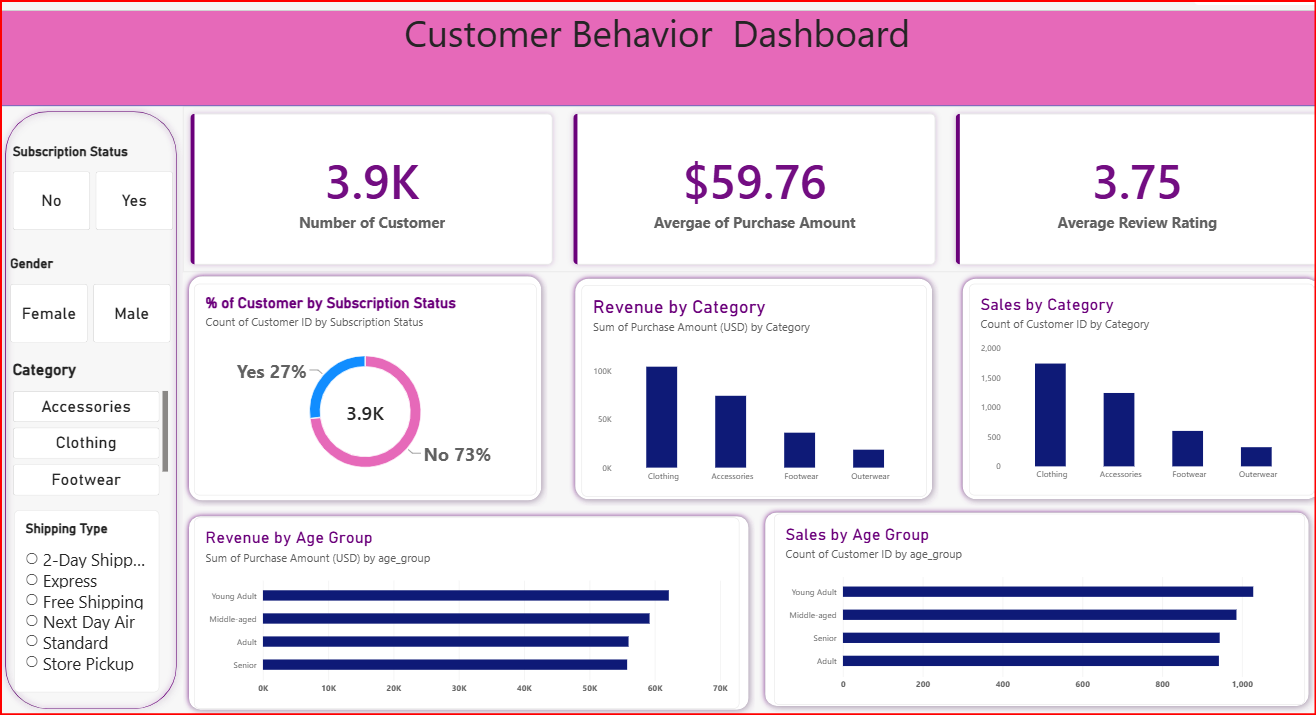

This screenshot's page, from the dashboard's own definition file:
{"tool":"powerbi","page":{"name":"Page 1","canvas":[1920,1080],"ordinal":0},"visuals":[{"type":"cardVisual","fields":{"Data":["public customer.Number of Customer","public customer.Avergae of Purchase Amount","public customer.Average Review Rating"]},"box":[266.1,198,1654.3,240.6],"z":0},{"type":"shape","box":[0,0,1920.1,197.3],"z":1000},{"type":"textbox","box":[0,54.3,1920.1,143],"z":2000},{"type":"shape","box":[266.1,434.3,528,342.8],"z":3000},{"type":"donutChart","title":"% of Customer by Subscription Status","fields":{"Category":["public customer.Subscription Status"],"Y":["CountNonNull(public customer.Customer ID)"]},"box":[283.2,453.5,496.1,306.6],"z":4000},{"type":"shape","box":[826.1,438.6,534.9,337.3],"z":5000},{"type":"shape","box":[1386,438.6,534.9,337.3],"z":6000},{"type":"clusteredColumnChart","title":"Revenue by Category ","fields":{"Category":["public customer.Category"],"Y":["Sum(public customer.Purchase Amount (USD))"]},"box":[843.1,455.6,500.3,306.6],"z":7000},{"type":"clusteredColumnChart","title":"Sales by Category","fields":{"Category":["public customer.Category"],"Y":["CountNonNull(public customer.Customer ID)"]},"box":[1405.2,453.5,500.3,306.6],"z":8000},{"type":"shape","box":[0,195.9,266.1,883.6],"z":9000},{"type":"advancedSlicerVisual","fields":{"Values":["public customer.Subscription Status"]},"box":[19.2,251.2,232.1,125.6],"z":11000},{"type":"advancedSlicerVisual","fields":{"Values":["public customer.Category"]},"box":[19.2,564.2,225.7,198],"z":12000},{"type":"listSlicer","fields":{"Values":["public customer.Shipping Type"]},"box":[21.3,781.4,210.8,264],"z":13000},{"type":"clusteredBarChart","title":"Revenue by Age Group ","fields":{"Category":["public customer.age_group"],"Y":["Sum(public customer.Purchase Amount (USD))"]},"box":[283.2,792,704.7,276.8],"z":14000},{"type":"shape","box":[266.1,781.4,828.2,298.1],"z":15000},{"type":"clusteredBarChart","title":"Revenue by Age Group ","fields":{"Category":["public customer.age_group"],"Y":["Sum(public customer.Purchase Amount (USD))"]},"box":[283.2,792,789.9,276.8],"z":16000},{"type":"shape","box":[1100.7,777.1,804.8,298.1],"z":17000},{"type":"clusteredBarChart","title":"Sales by Age Group ","fields":{"Category":["public customer.age_group"],"Y":["Count(public customer.Customer ID)"]},"box":[1122,787.8,768.6,276.8],"z":18000},{"type":"advancedSlicerVisual","fields":{"Values":["public customer.Gender"]},"box":[17,415.2,232.1,125.6],"z":18001}]}

Visuals, with their boxes on the page's 1920x1080 design canvas (x1, y1, x2, y2). These are canvas units, not pixel positions in the 1316x715 screenshot, which may show the page scaled, cropped or inside an application window:
cardVisual - public customer.Number of Customer x public customer.Avergae of Purchase Amount: bbox=(266, 198, 1920, 439)
shape: bbox=(0, 0, 1920, 197)
textbox: bbox=(0, 54, 1920, 197)
shape: bbox=(266, 434, 794, 777)
"% of Customer by Subscription Status" donutChart: bbox=(283, 454, 779, 760)
shape: bbox=(826, 439, 1361, 776)
shape: bbox=(1386, 439, 1921, 776)
"Revenue by Category " clusteredColumnChart: bbox=(843, 456, 1343, 762)
"Sales by Category" clusteredColumnChart: bbox=(1405, 454, 1906, 760)
shape: bbox=(0, 196, 266, 1080)
advancedSlicerVisual - public customer.Subscription Status: bbox=(19, 251, 251, 377)
advancedSlicerVisual - public customer.Category: bbox=(19, 564, 245, 762)
listSlicer - public customer.Shipping Type: bbox=(21, 781, 232, 1045)
"Revenue by Age Group " clusteredBarChart: bbox=(283, 792, 988, 1069)
shape: bbox=(266, 781, 1094, 1080)
"Revenue by Age Group " clusteredBarChart: bbox=(283, 792, 1073, 1069)
shape: bbox=(1101, 777, 1906, 1075)
"Sales by Age Group " clusteredBarChart: bbox=(1122, 788, 1891, 1065)
advancedSlicerVisual - public customer.Gender: bbox=(17, 415, 249, 541)
